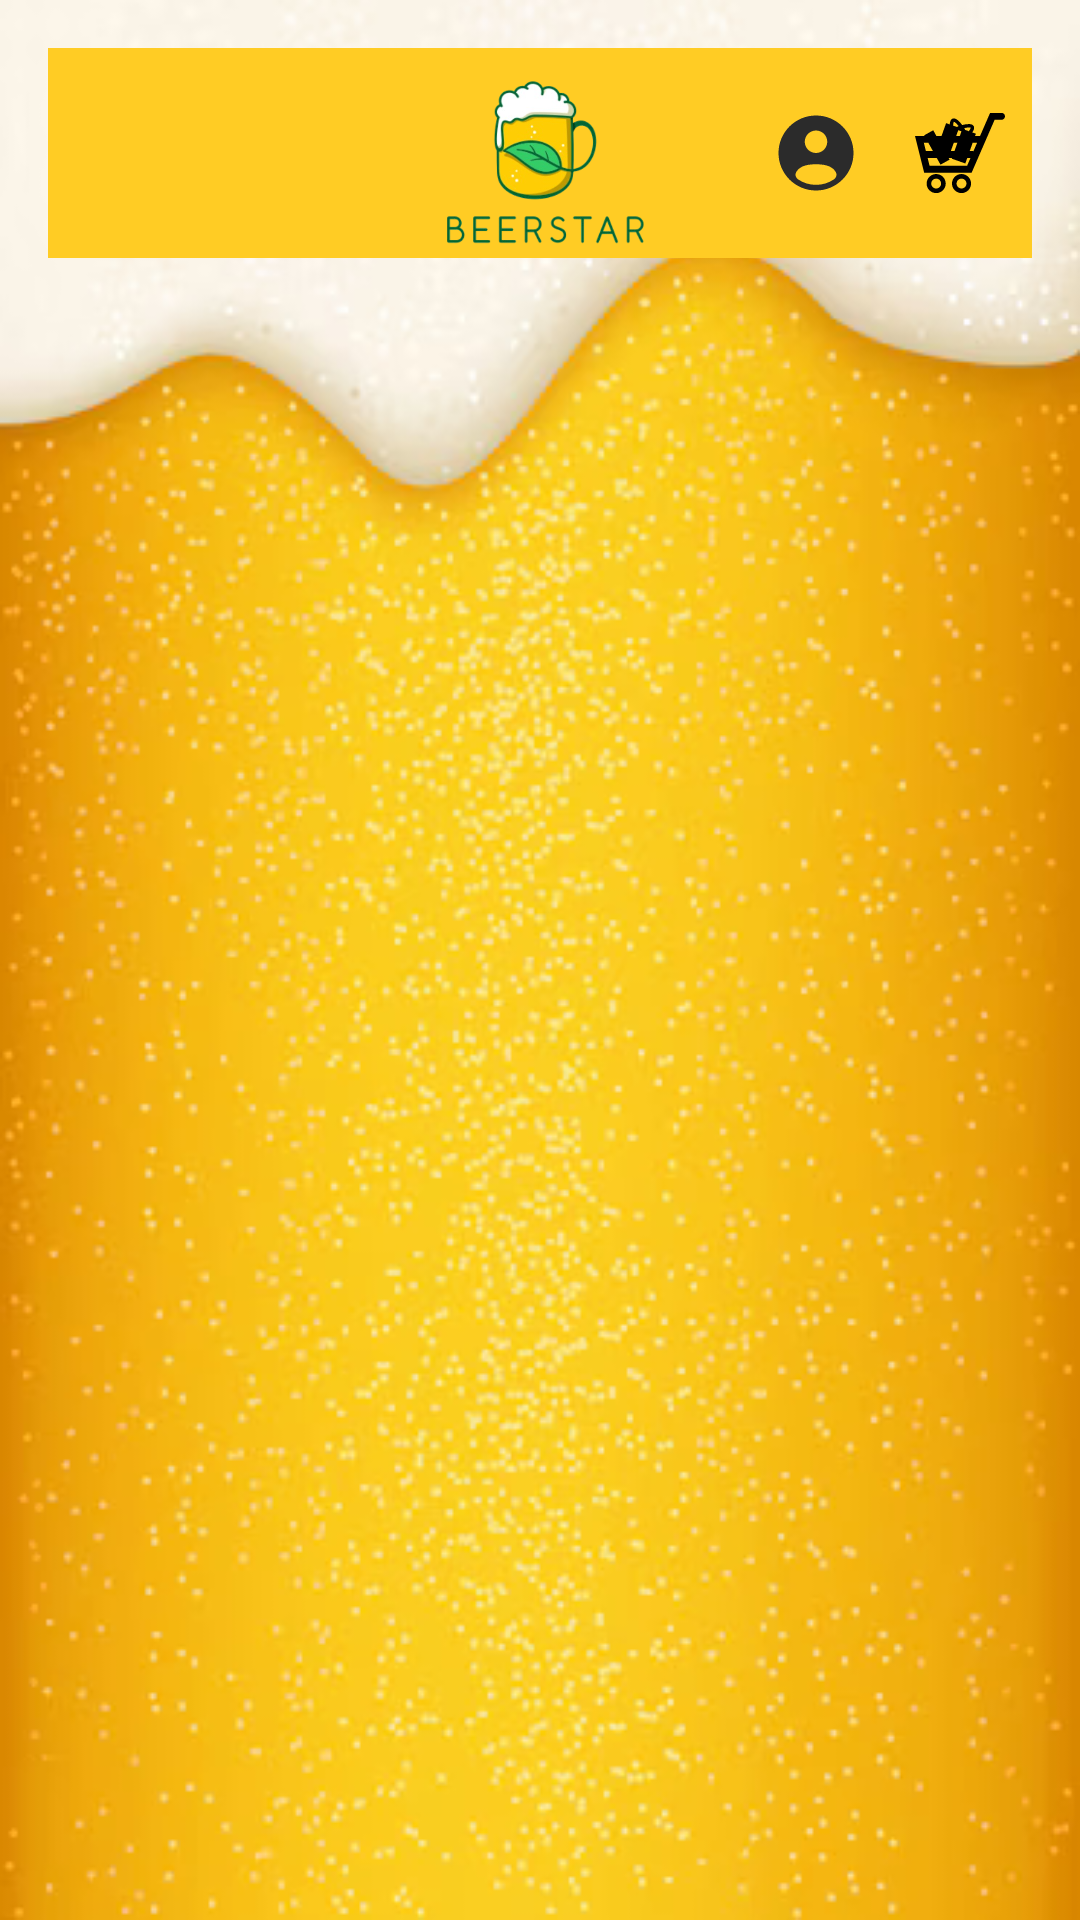

Icon bounding boxes for this 1080px x 1920px phone screenshot, format bbox(x1, y1, x2, y2):
carrito: bbox(915, 113, 1005, 193)
usuario: bbox(778, 115, 854, 191)
